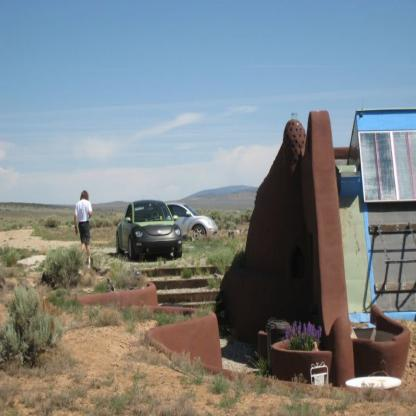Car: (118, 199, 186, 260), (167, 203, 220, 241)
